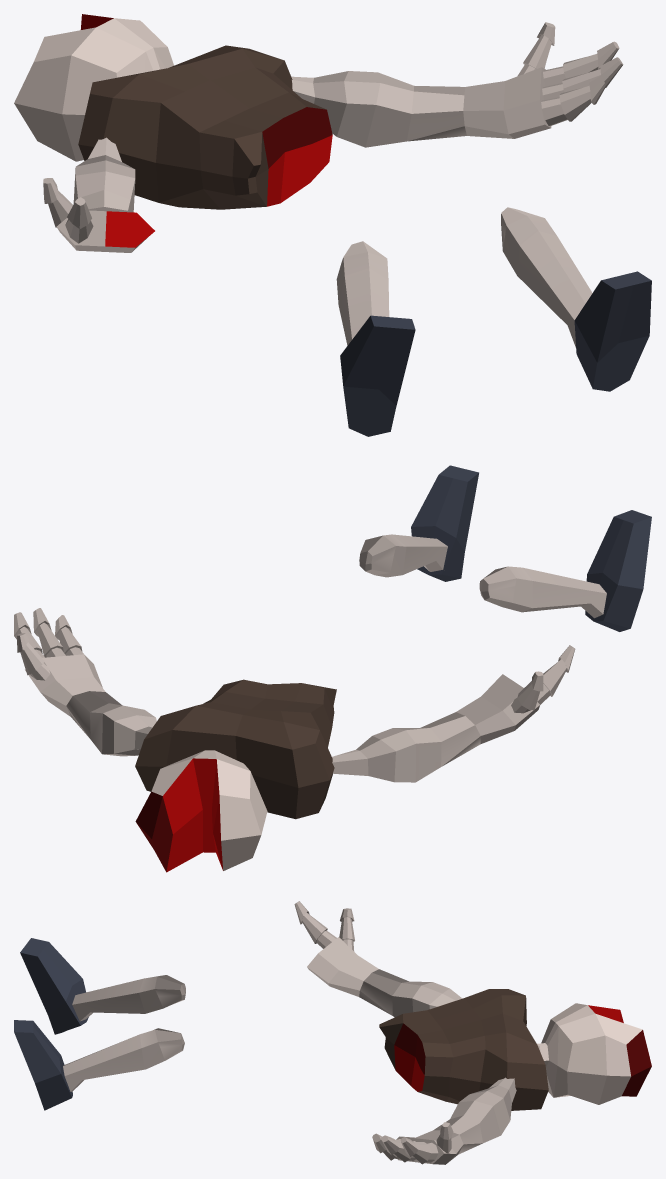
The model's file is deadguy05.fbx.
The picture shows the model from 3 angles, top to bottom: view 1: azimuth 30°, elevation 25°; view 2: azimuth 150°, elevation 25°; view 3: azimuth 270°, elevation 25°; orthographic projection. The views are drawn at different scales.
Parts seen in each view (by area): view 1: polySurface204; view 2: polySurface204; view 3: polySurface204.
Part boxes in pixels (bbox=[...]): polySurface204: bbox=[14, 14, 651, 436]; polySurface204: bbox=[14, 465, 651, 872]; polySurface204: bbox=[14, 901, 651, 1164].
Bounding box in the file's own units: 161 × 40.69 × 212.
